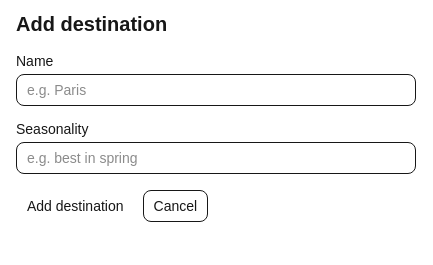
DestinationFormView — create mode: form validation › shows name required error when submitted without a name
What coordinates should you click on to do the following:
click the button "Add destination"
I would click on:
 (75, 206)
Its box is [16,190,134,222].
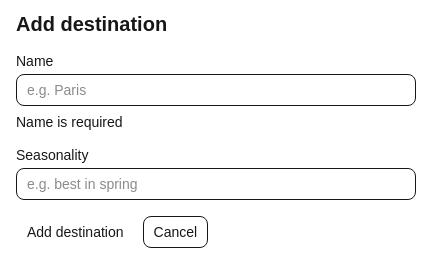
Expected: the text "Name is required" is shown, [16,114,123,130]
